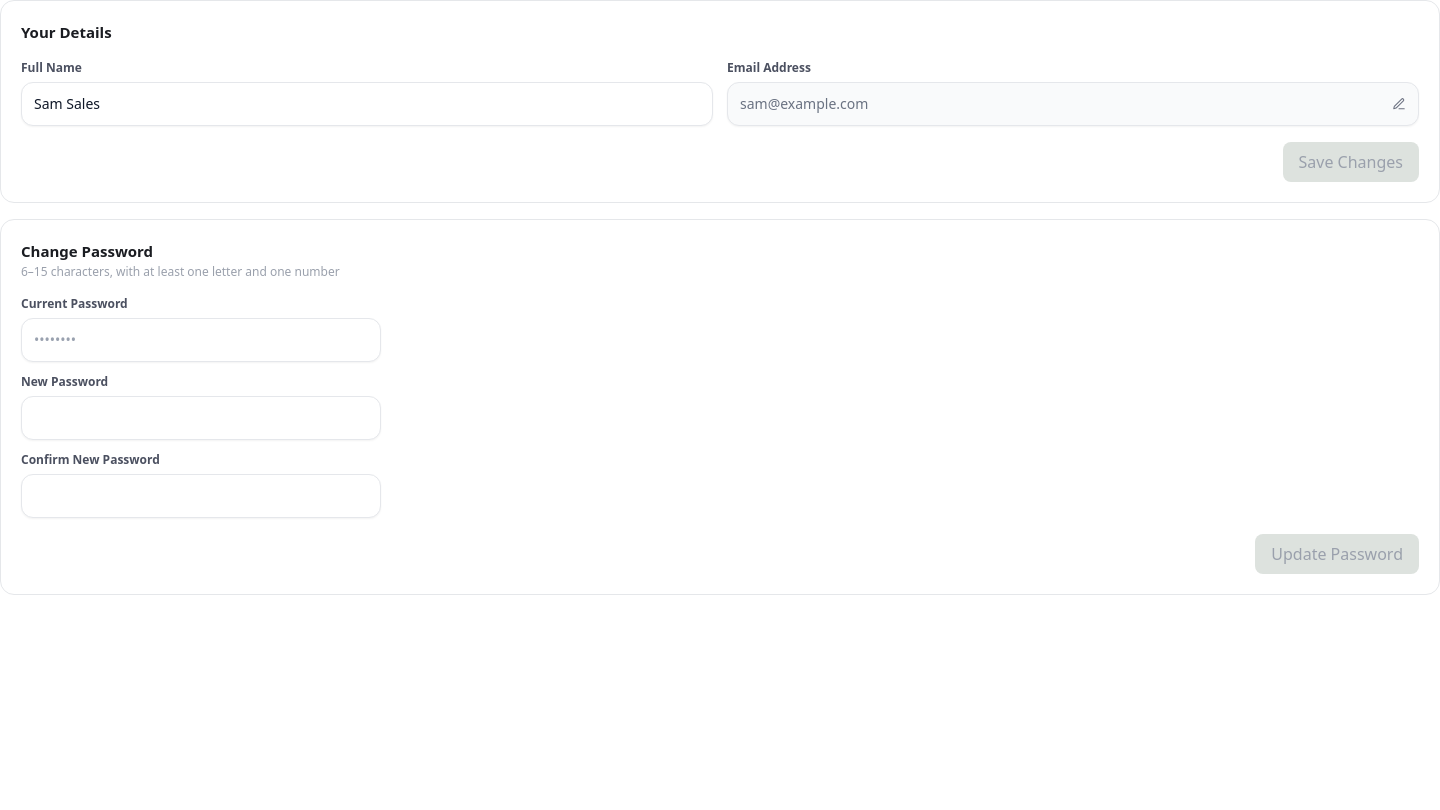
Test: AccountTab password form › keeps Update disabled until the current password is typed and the new one is valid and matches
Check: the button "Update Password" is disabled, box [1255,534,1419,574]
Type "Sam2026" into the password field labelled "Current Password" at coordinates (201, 340), box [21,318,381,362]
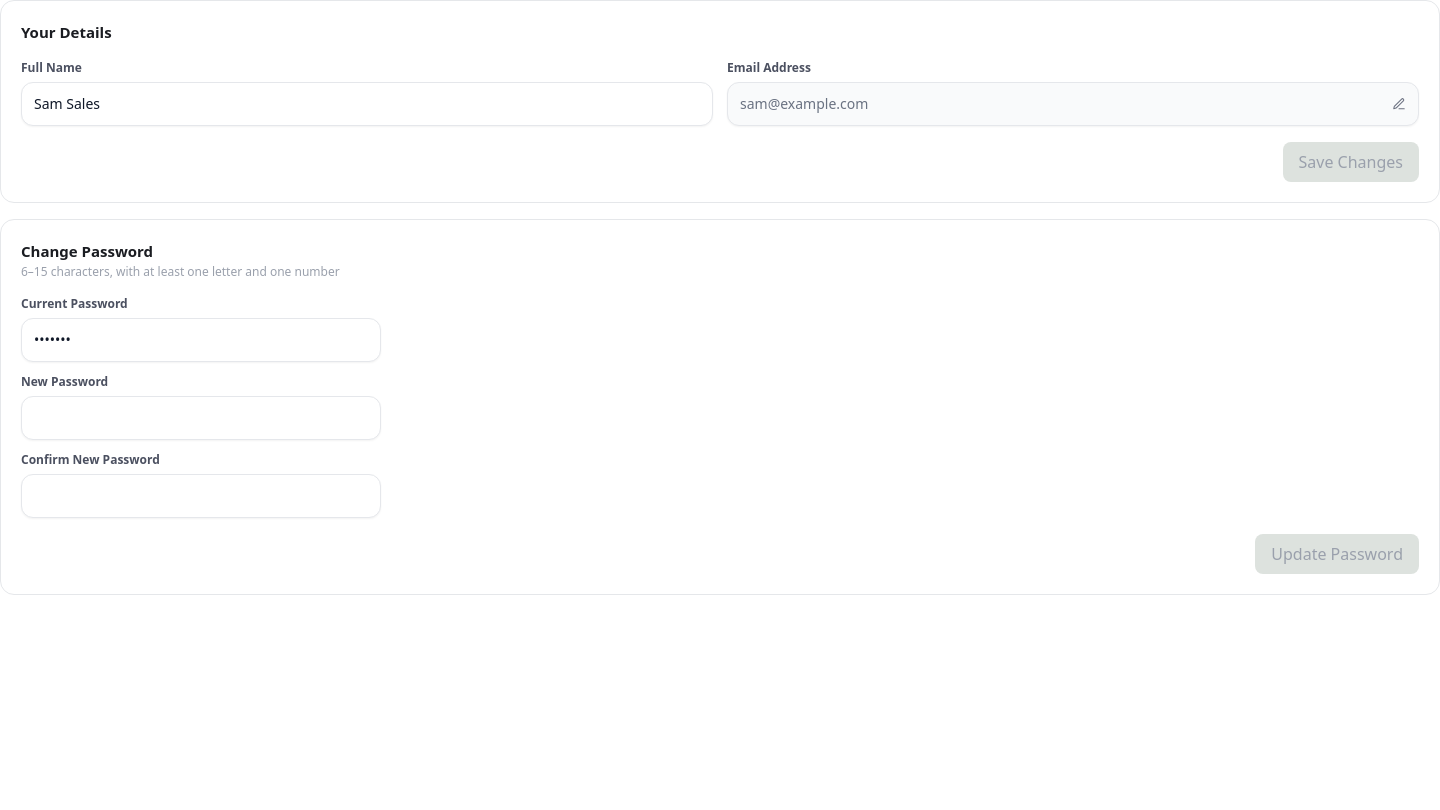
Type "abcdefgh" into the password field labelled "New Password" at coordinates (201, 418), box [21,396,381,440]
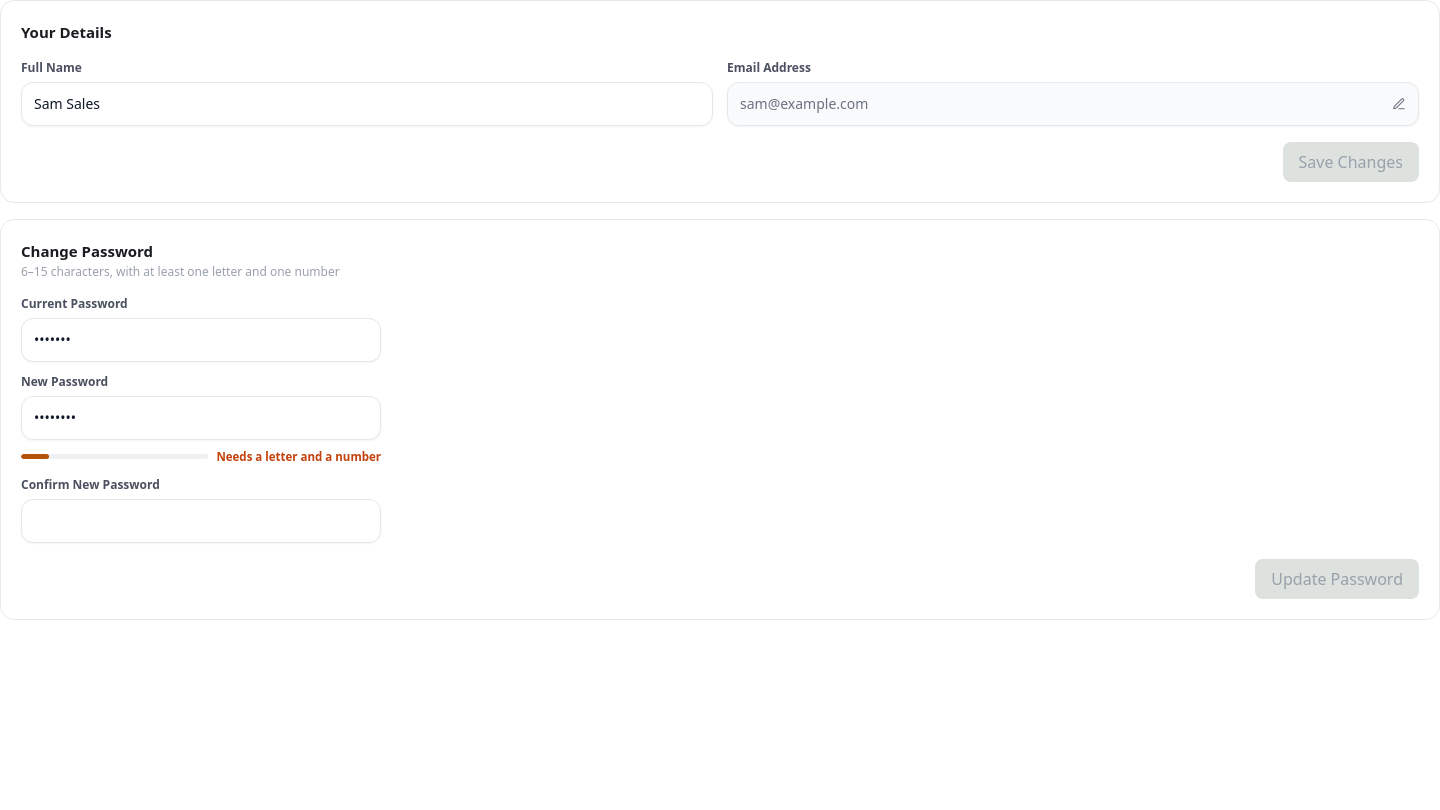
Type "abcdefgh" into the password field labelled "Confirm New Password" at coordinates (201, 521), box [21,499,381,543]
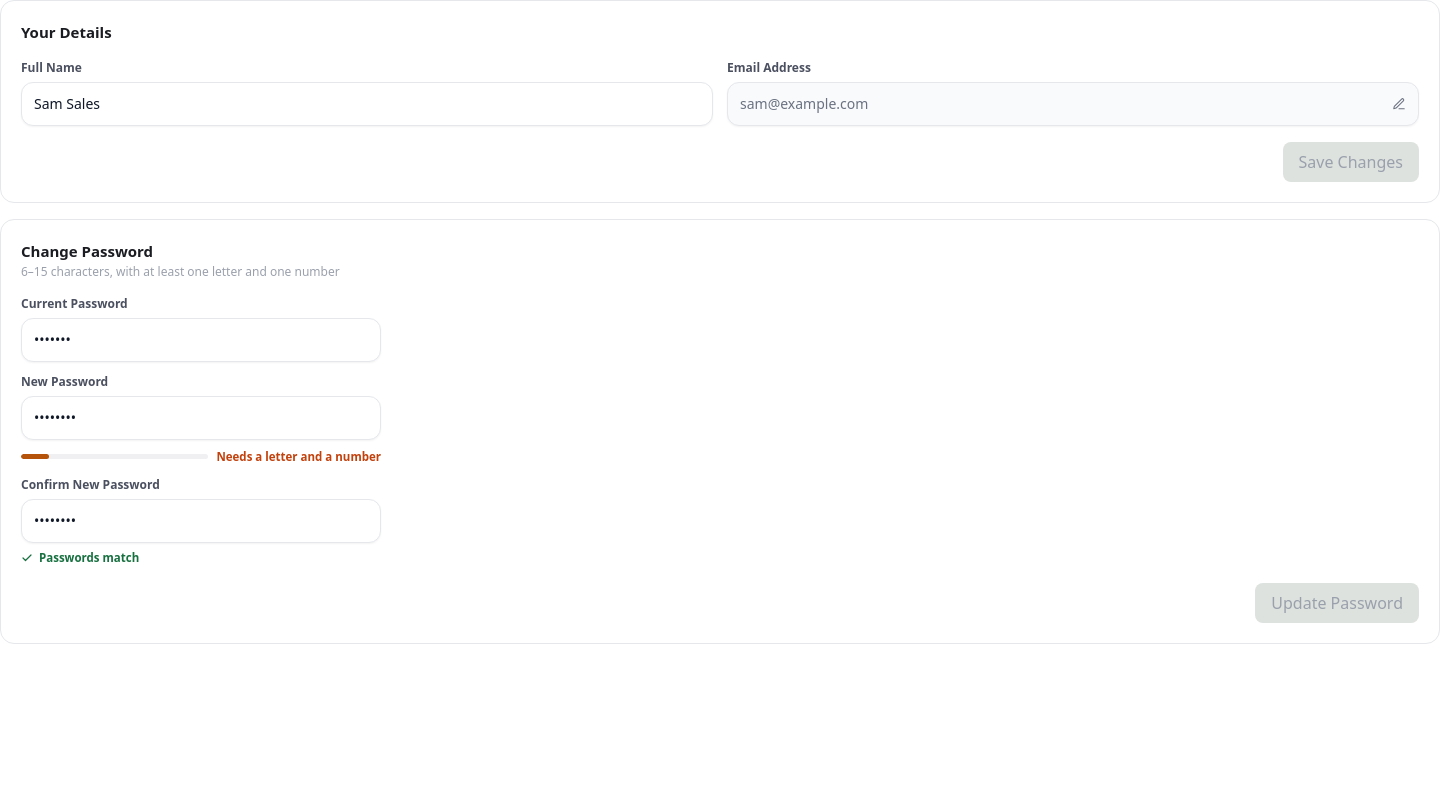
Check: the button "Update Password" is disabled, box [1255,582,1419,622]
Check: the text "Needs a letter and a number" is shown, box [216,448,381,465]
Type "Kerala2026" into the password field labelled "New Password" at coordinates (201, 418), box [21,396,381,440]
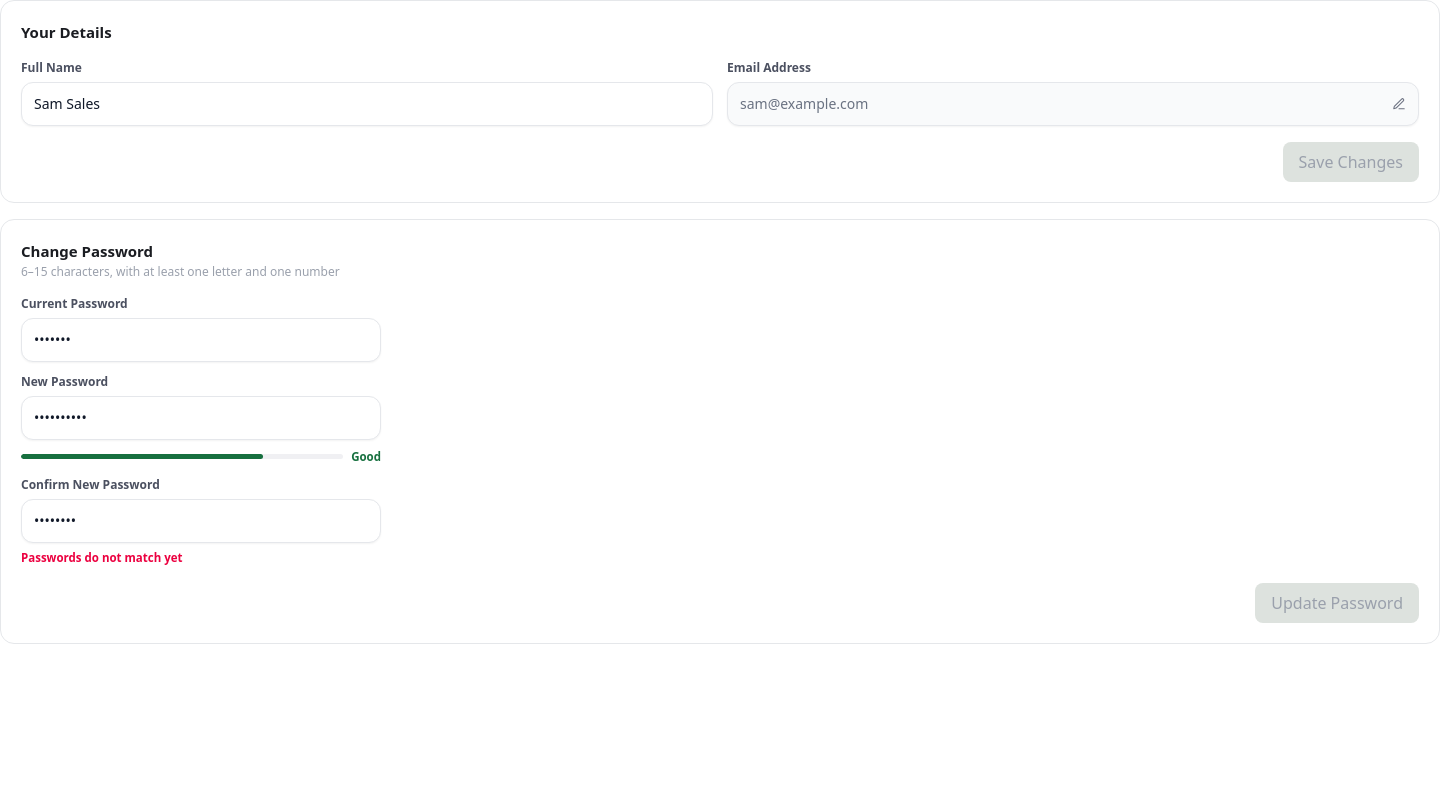
Type "Kerala2026" into the password field labelled "Confirm New Password" at coordinates (201, 521), box [21,499,381,543]
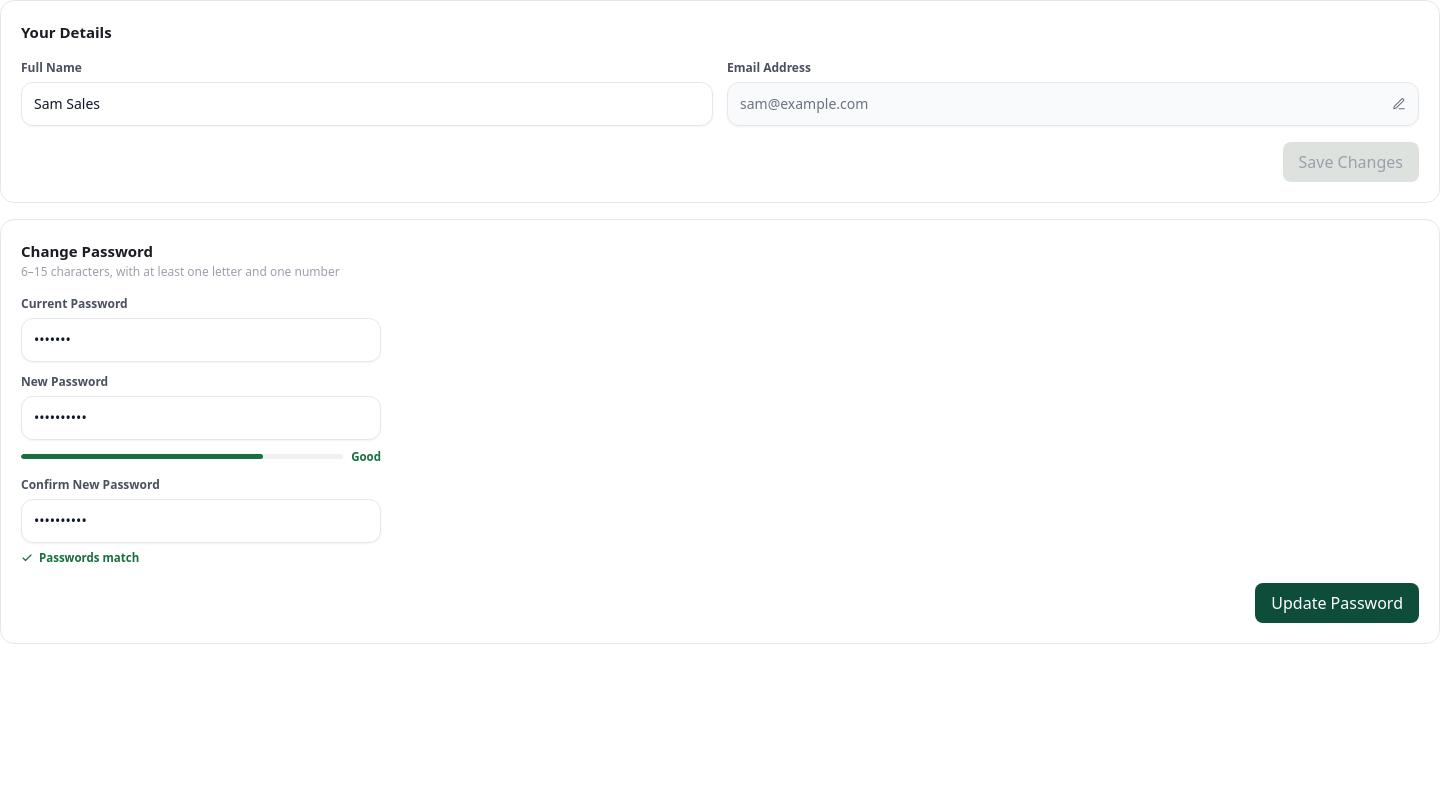
Check: the button "Update Password" is enabled, box [1255,582,1419,622]
